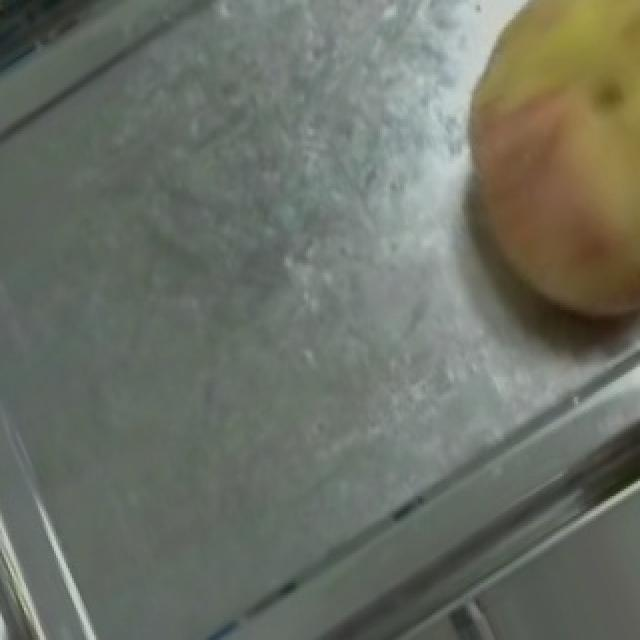Fruit: (416, 0, 640, 365)
